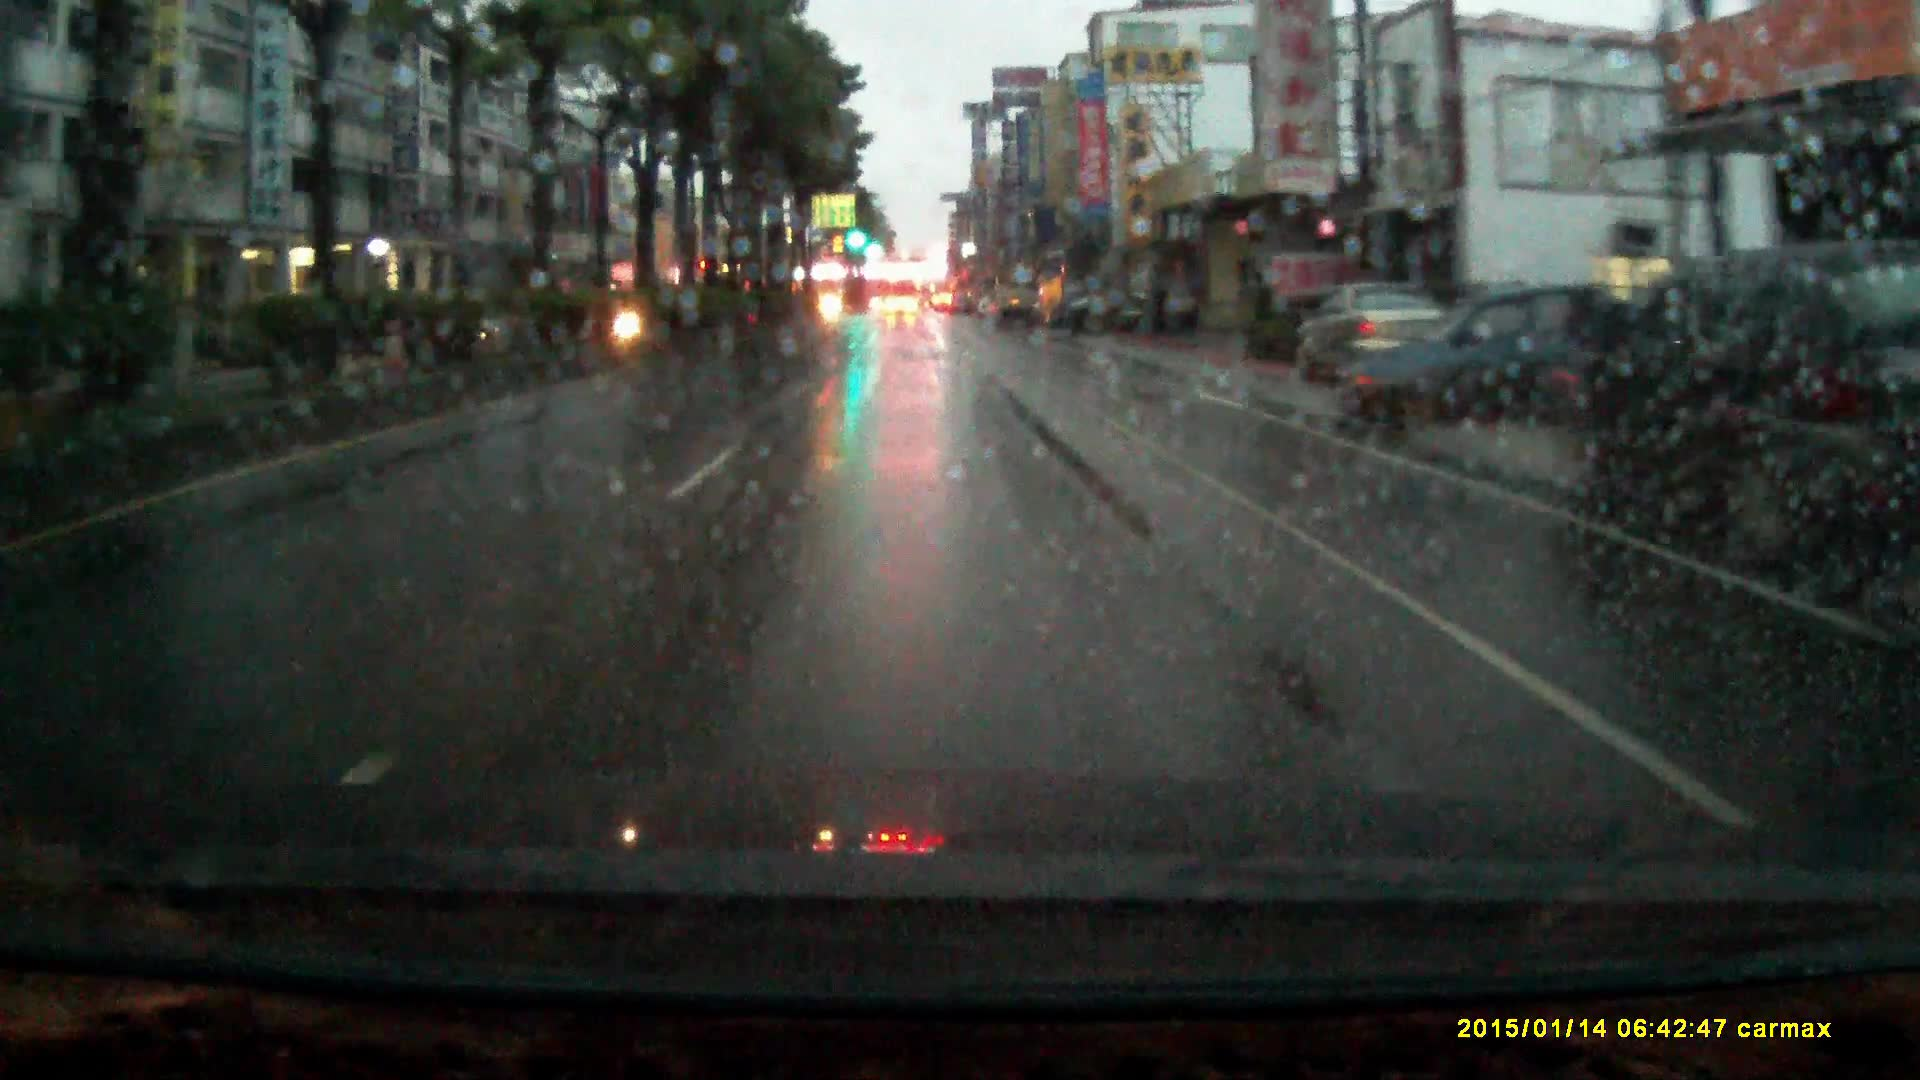vehicle: (1563, 247, 1920, 560), (1336, 285, 1695, 435), (1284, 284, 1452, 393), (1043, 291, 1188, 338), (992, 287, 1036, 334), (886, 298, 919, 320)
